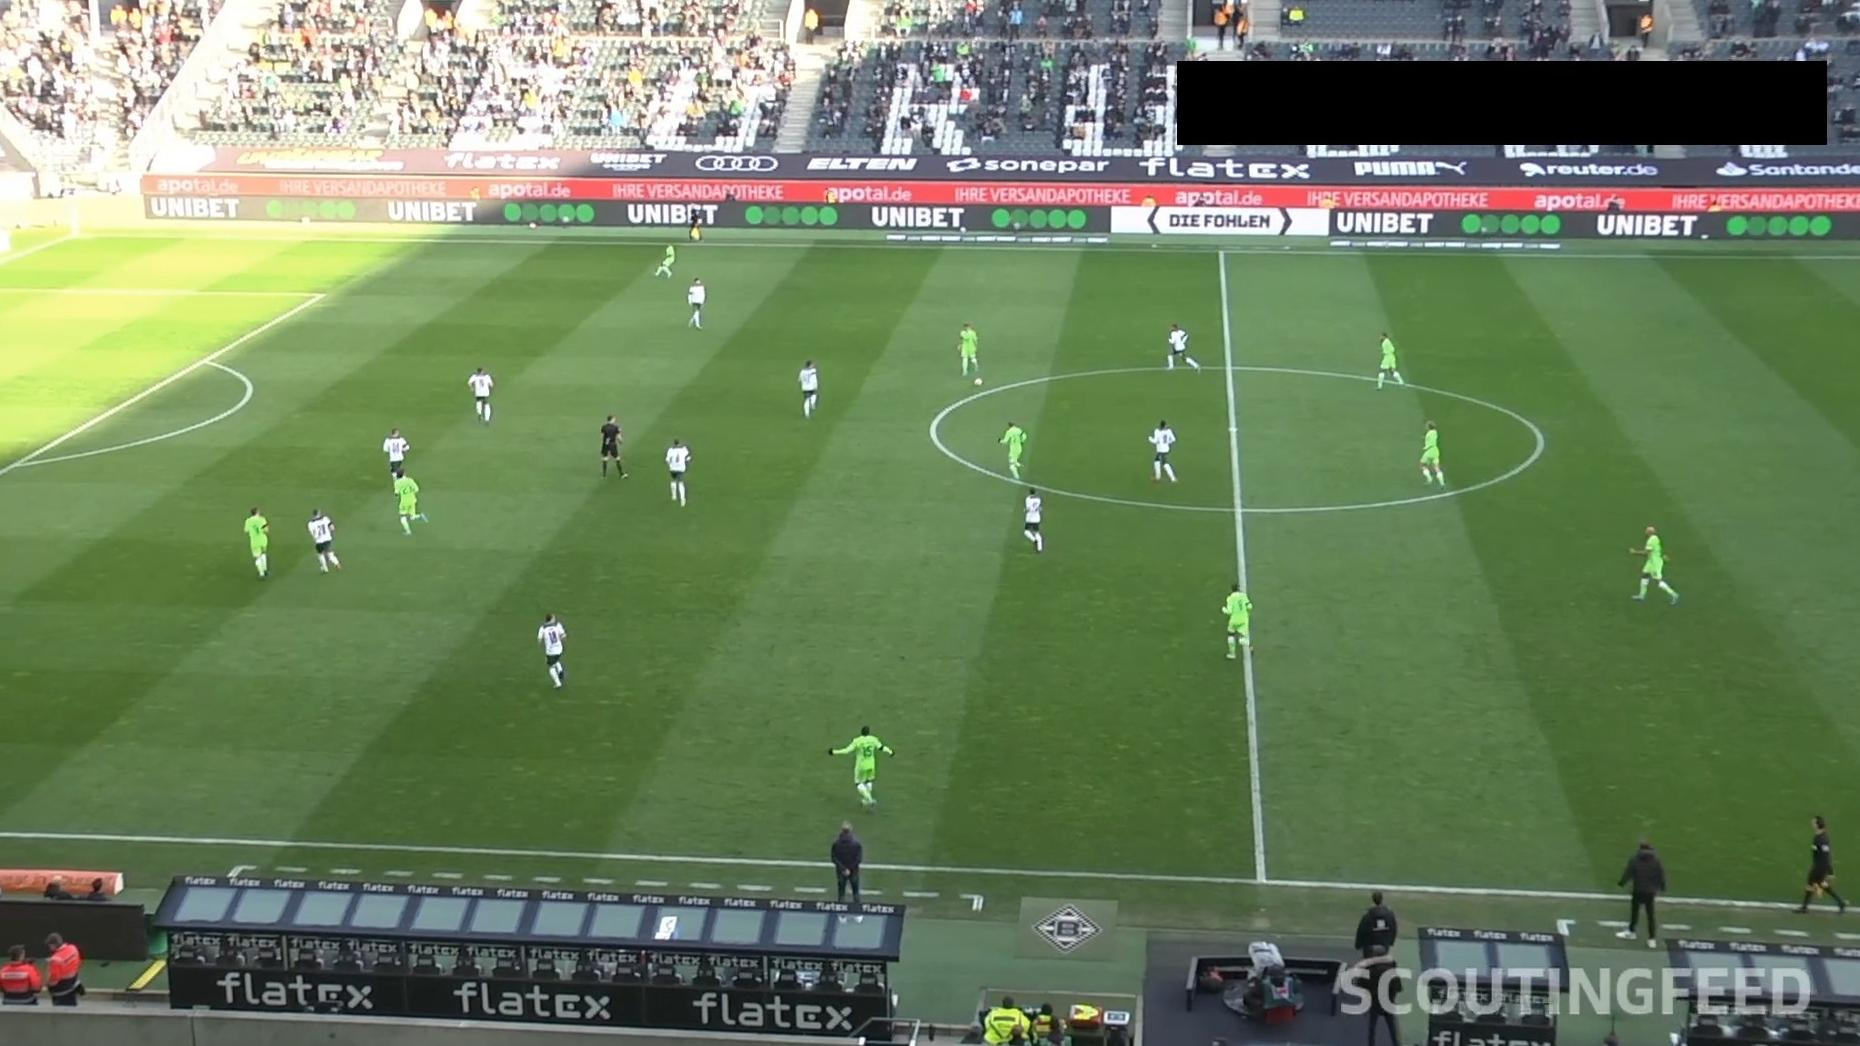ball: (973, 377, 984, 387)
